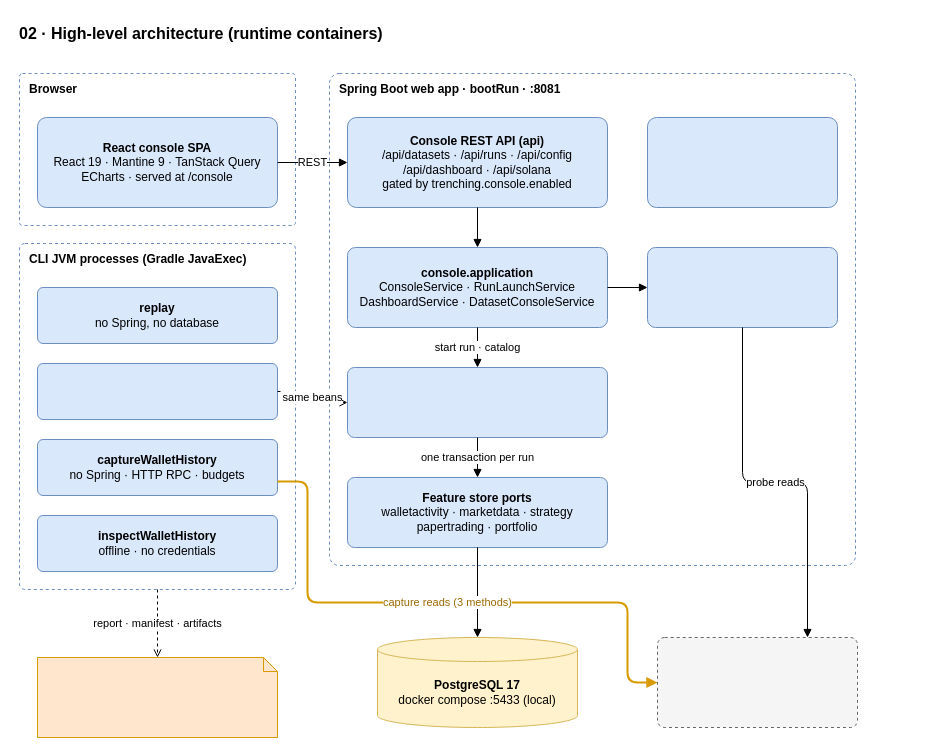
Some shapes in this 934 by 755 pixel diagram are drawn without their labels. Each missing label, with the centre of its shape:
"Actuator /actuator/health /actuator/info" goes at (742,162).
"build/ directory replay-report.json captures/wallet-history/" goes at (157,697).
"console.solana SolanaProbeService JsonRpcSolanaProbe (30 s cache)" goes at (742,287).
"persistedReplay Spring non-web + PostgreSQL" goes at (157,391).
"replay.application Catalog · SimulationRuns · Ledger ReplayRunner (pure engine)" goes at (477,402).
"Solana JSON-RPC Helius / devnet / any" goes at (757,682).
